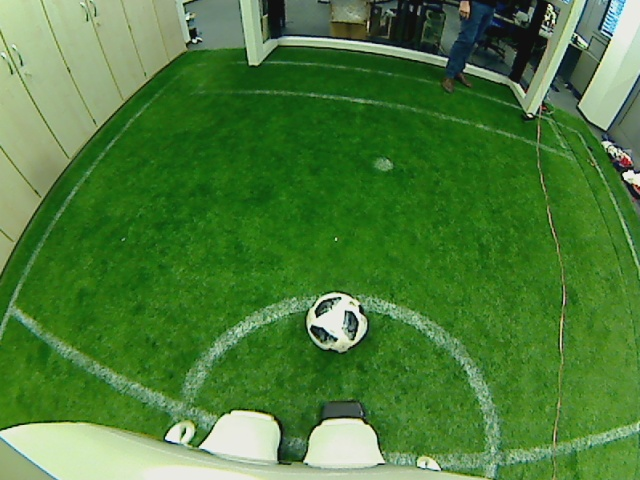ball: (304, 289, 371, 356)
